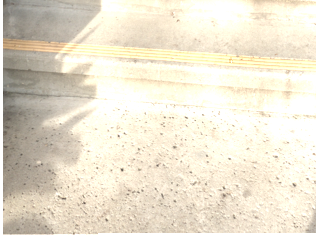Edge: (4, 47, 316, 118)
